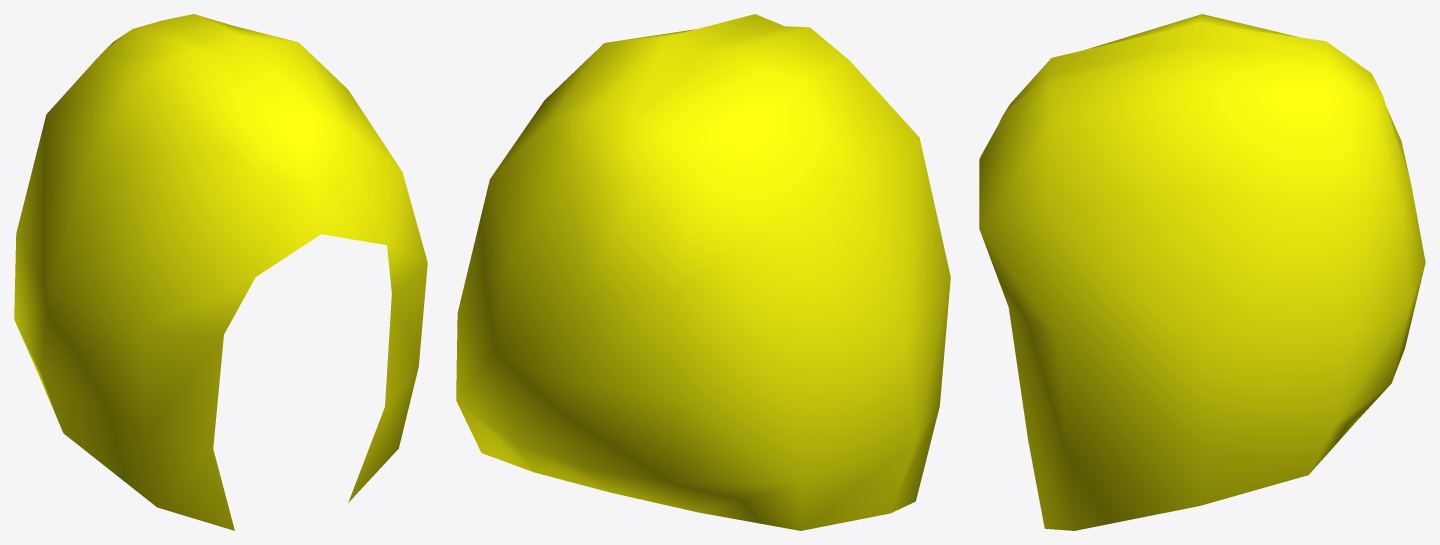
The model's file is hair_BobCut3.glb.
3 renders of one model, left to right at view 1: azimuth 30°, elevation 25°; view 2: azimuth 150°, elevation 25°; view 3: azimuth 270°, elevation 25°, orthographic. The views are drawn at different scales.
Parts seen in each view (by area): view 1: NewBobHairVariant2; view 2: NewBobHairVariant2; view 3: NewBobHairVariant2.
Boxes of the visible parts, left/top/right/bottom form: NewBobHairVariant2: left=14, top=14, right=427, bottom=530; NewBobHairVariant2: left=456, top=14, right=950, bottom=530; NewBobHairVariant2: left=979, top=14, right=1425, bottom=530.
Size of the model in its own units: 0.6478 by 0.7244 by 0.6332.
1 material, 1 textured.
